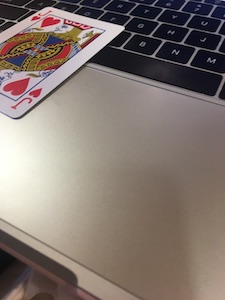JackOfHearts: (1, 5, 126, 121)
